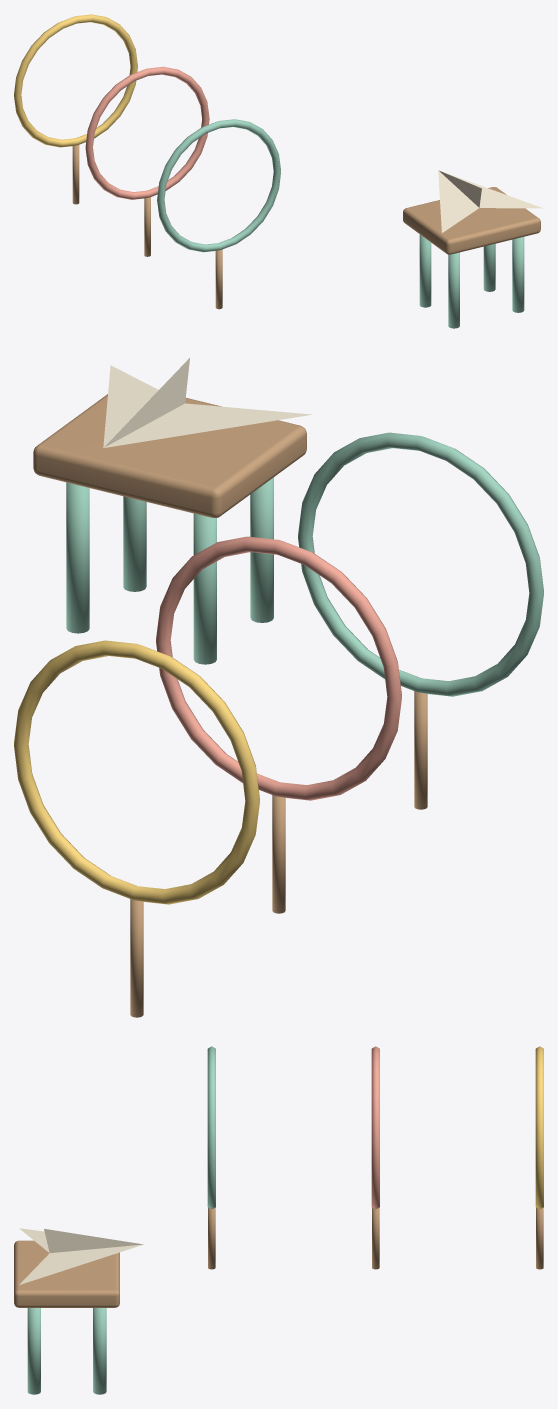
The model's file is play-plane.glb.
The picture shows the model from 3 angles, top to bottom: view 1: azimuth 30°, elevation 25°; view 2: azimuth 150°, elevation 25°; view 3: azimuth 270°, elevation 25°; orthographic projection. The views are drawn at different scales.
Parts seen in each view (by area): view 1: Scenery surfaces, Folded letter plane; view 2: Scenery surfaces, Folded letter plane; view 3: Scenery surfaces, Folded letter plane.
Part boxes in pixels (x1,y1,x2,y2): Scenery surfaces: [14, 14, 540, 328]; Folded letter plane: [438, 170, 543, 232]; Scenery surfaces: [14, 394, 543, 1017]; Folded letter plane: [103, 358, 311, 447]; Scenery surfaces: [14, 1046, 543, 1394]; Folded letter plane: [19, 1228, 143, 1284].
Bounding box in the file's own units: 2.08 × 1.23 × 2.75.
